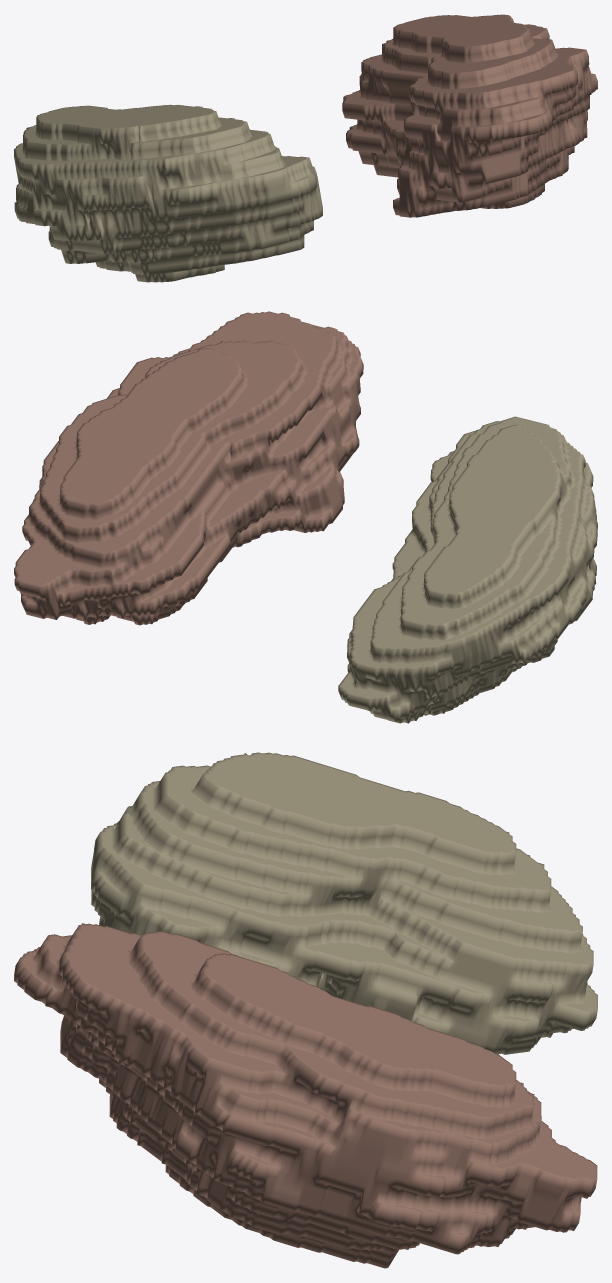
Rendered from kidney_prova.glb.
3 views of the same model, one above another, from view 1: azimuth 30°, elevation 25°; view 2: azimuth 150°, elevation 25°; view 3: azimuth 270°, elevation 25° (orthographic). The views are drawn at different scales.
Visible parts, largest first — view 1: Kidneys; view 2: Kidneys; view 3: Kidneys.
Boxes of the visible parts, <box> form: Kidneys: <box>14,14,597,282</box>; Kidneys: <box>14,311,597,723</box>; Kidneys: <box>14,752,597,1268</box>.
Bounding box in the file's own units: 0.2122 × 0.0814 × 0.1563.
